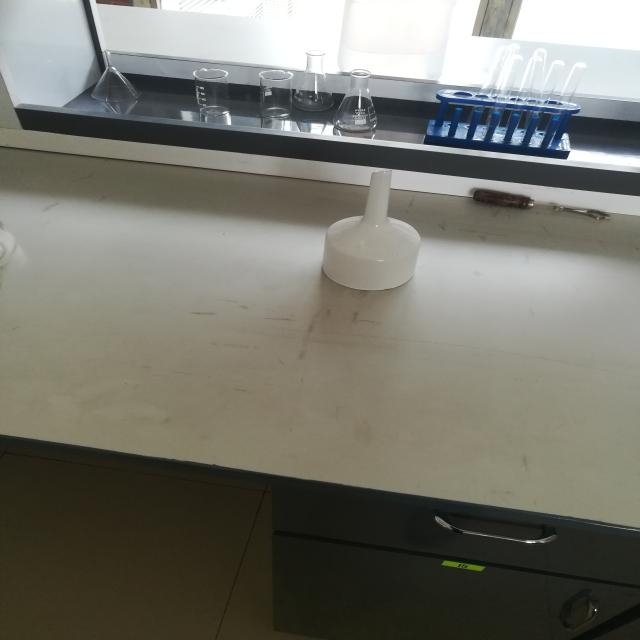Buchner_Funnel: (297, 150, 449, 314)
